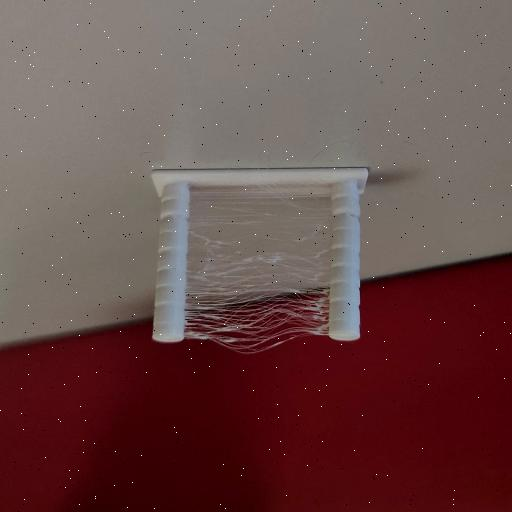stringing: (185, 196, 331, 359)
